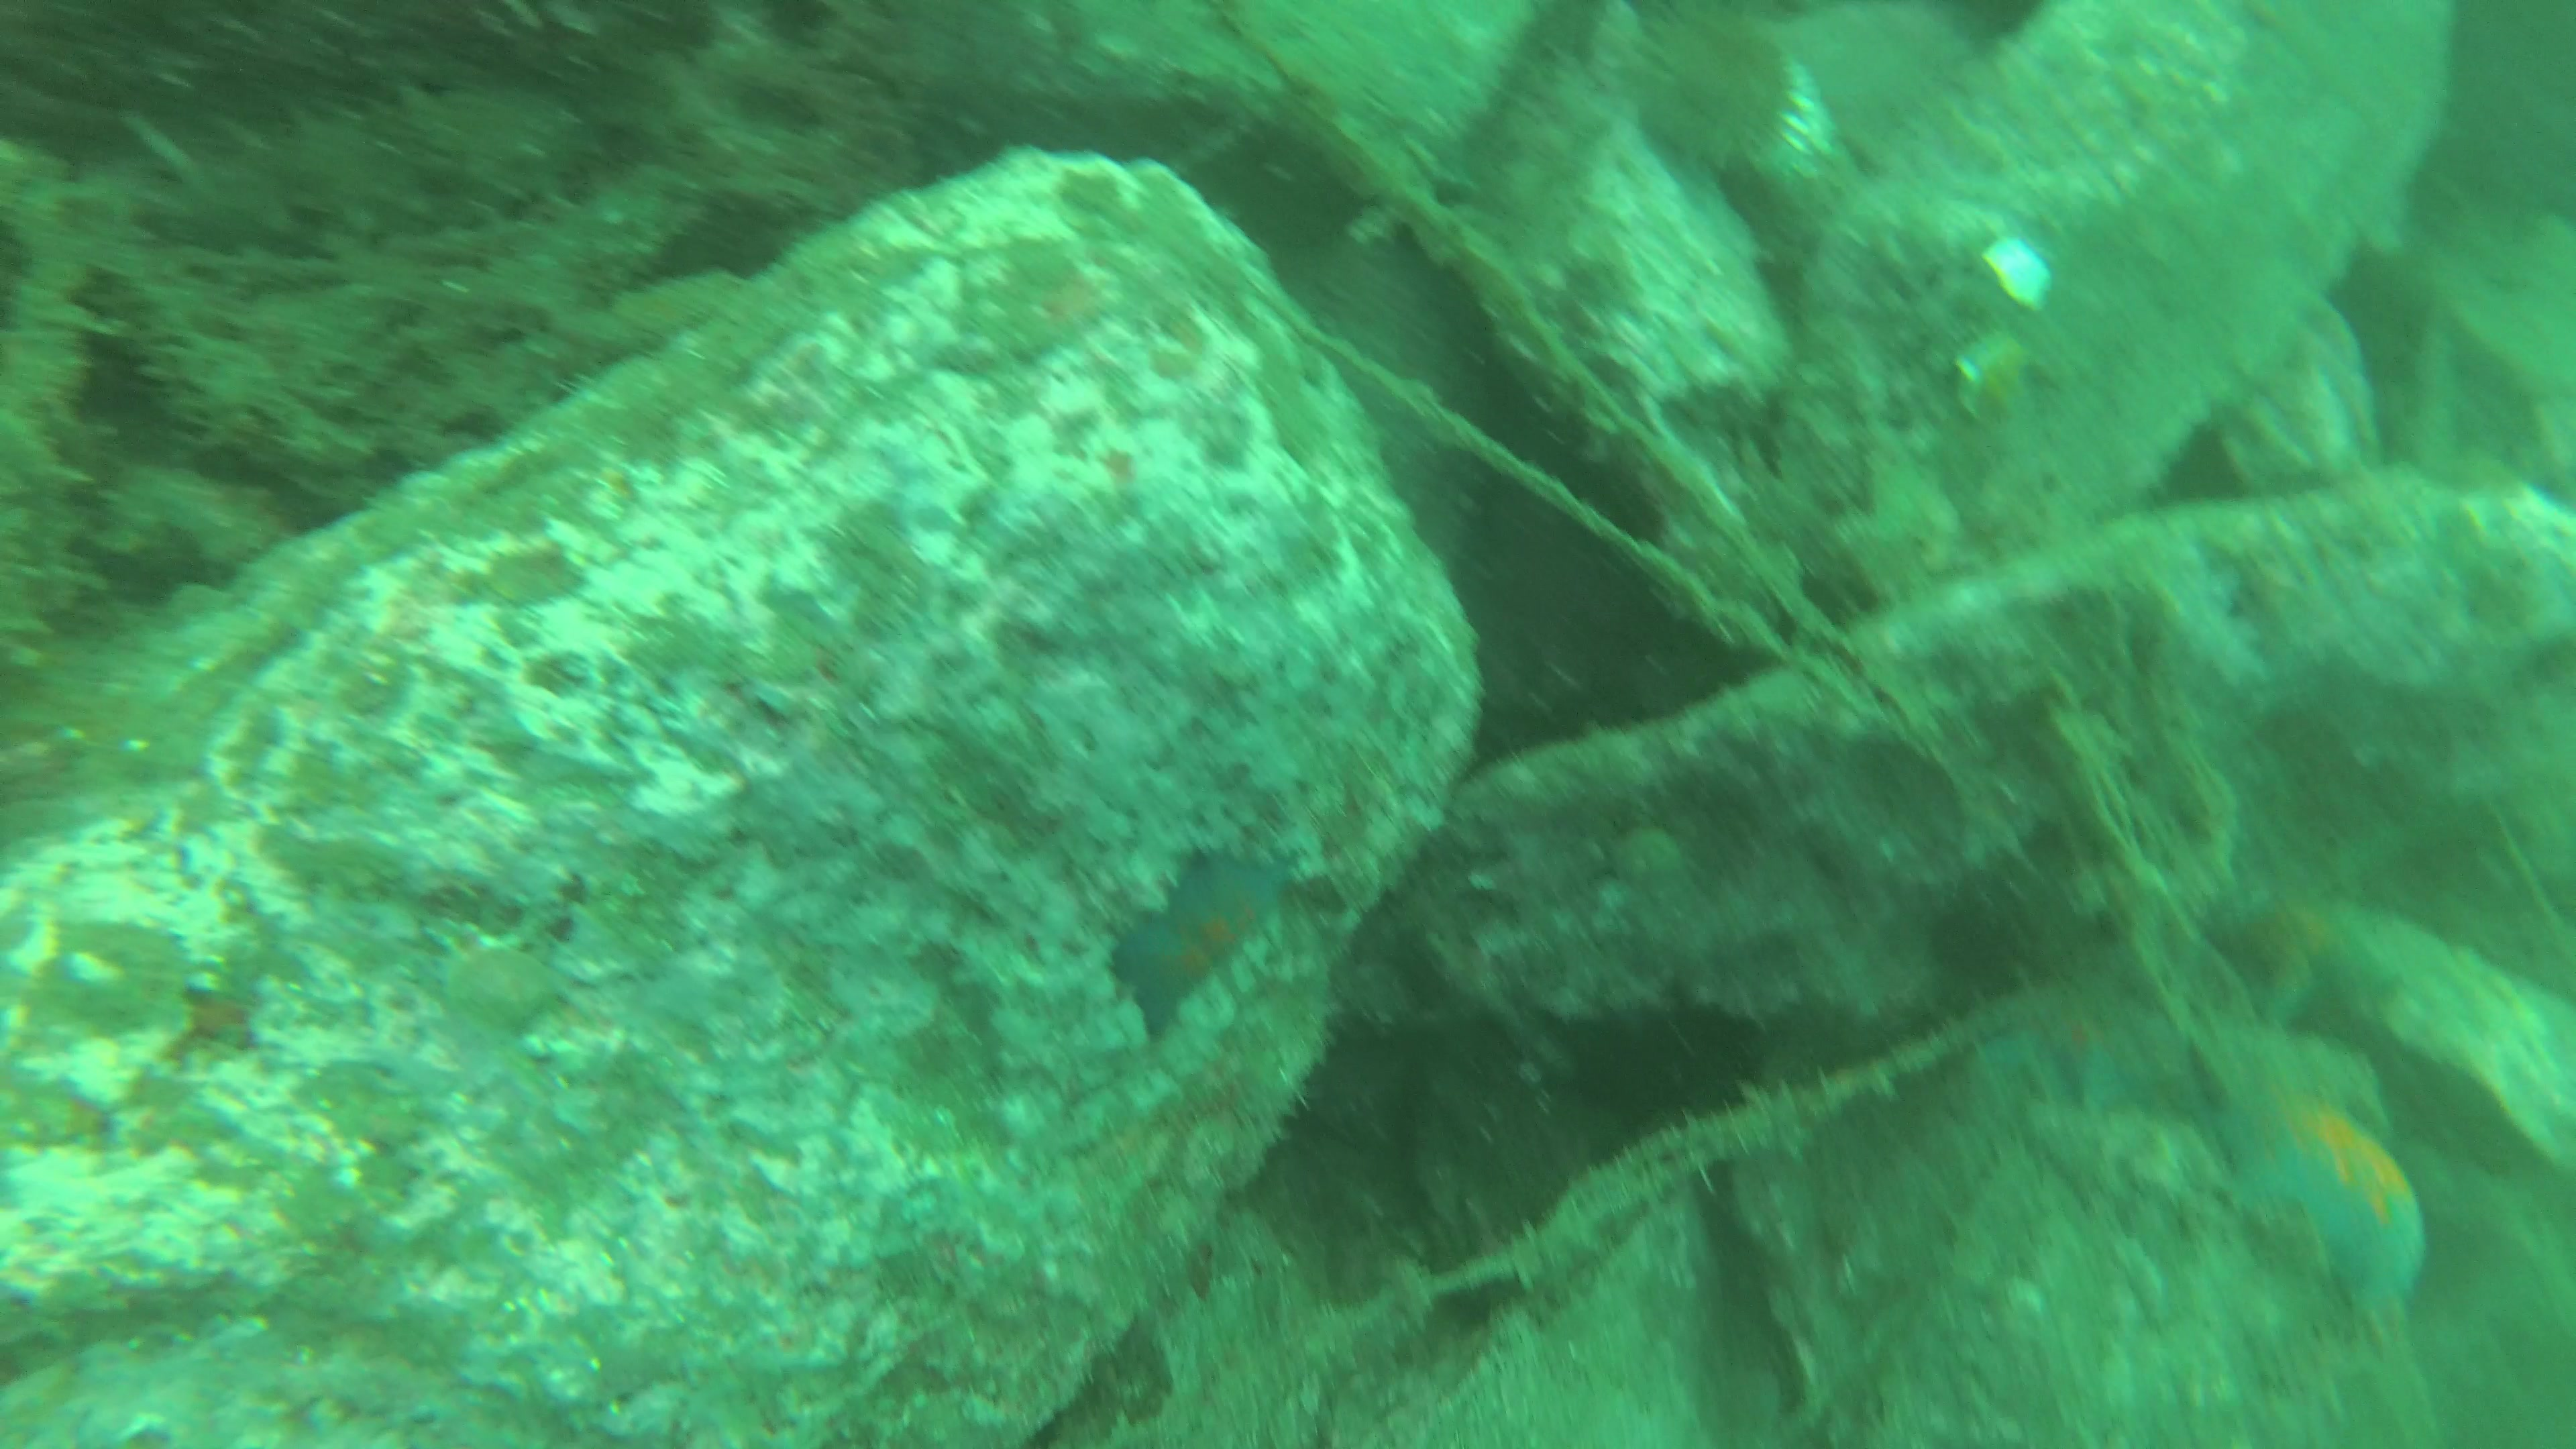echinus: (1621, 0, 1817, 180)
holothurian: (120, 64, 616, 246)
starfish: (2215, 1063, 2434, 1355), (1113, 851, 1307, 1053), (2206, 844, 2406, 1039), (1990, 970, 2189, 1127)
